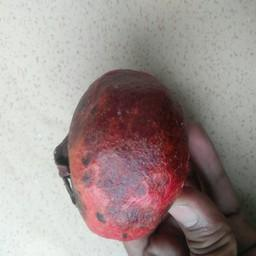Bad_pomegranate: (52, 61, 190, 242)
